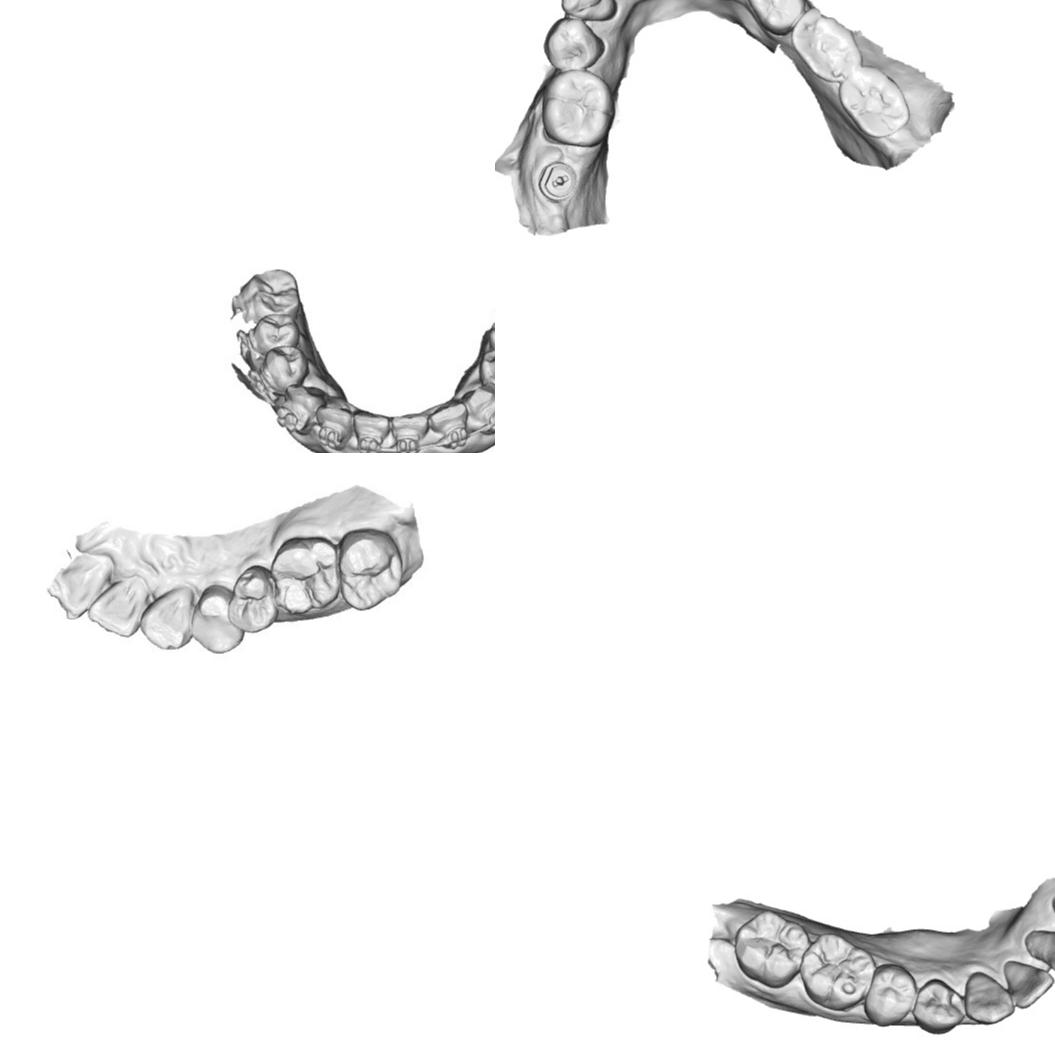canine: (141, 585, 194, 652), (963, 971, 1017, 1026), (558, 0, 618, 22), (288, 384, 327, 417), (467, 384, 495, 416)
implant_minus: (536, 161, 583, 203)
incisor: (40, 554, 106, 621), (85, 576, 140, 637), (1002, 957, 1055, 1010), (1024, 927, 1055, 975), (390, 412, 424, 441), (432, 401, 467, 429), (355, 412, 388, 436), (319, 404, 350, 426)
molar: (733, 909, 811, 990), (799, 931, 874, 1013), (268, 534, 341, 618), (539, 69, 614, 149), (338, 526, 406, 613), (836, 63, 912, 139), (790, 7, 864, 83), (249, 266, 301, 315)
premolar: (226, 562, 281, 634), (543, 15, 609, 72), (191, 588, 244, 658), (864, 962, 919, 1028), (913, 976, 967, 1035), (743, 0, 806, 35), (259, 315, 301, 352), (263, 350, 305, 387), (477, 348, 495, 388)
